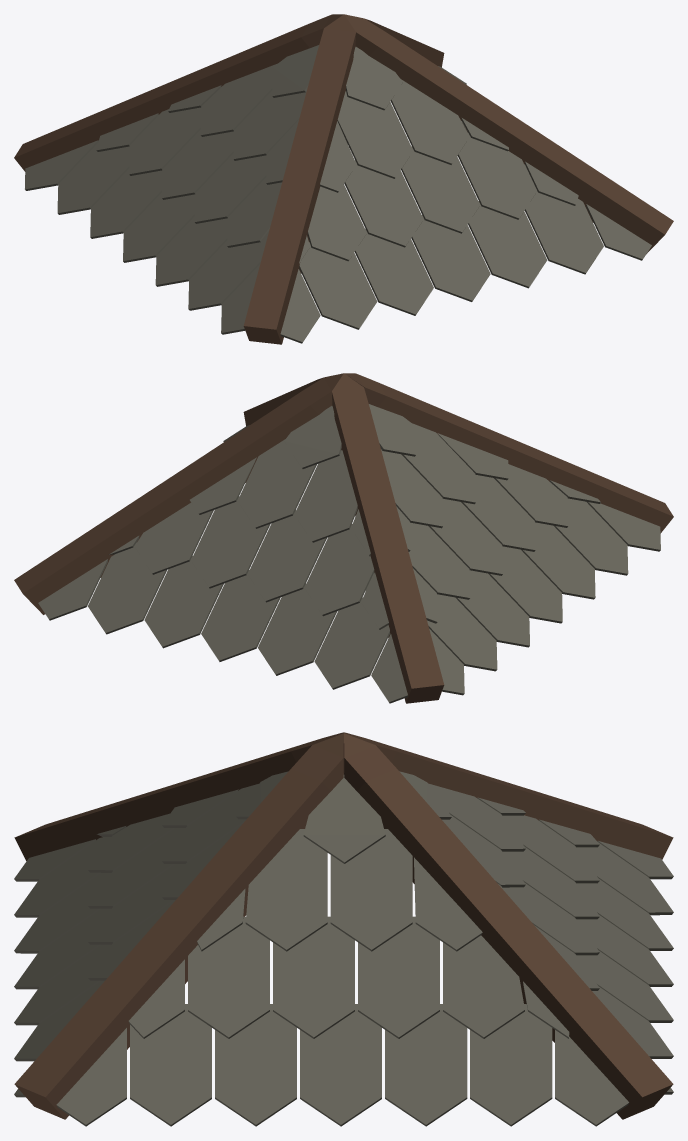
The model's file is Small Roof destruction.fbx.
The picture shows the model from 3 angles, top to bottom: view 1: azimuth 30°, elevation 25°; view 2: azimuth 150°, elevation 25°; view 3: azimuth 270°, elevation 25°; orthographic projection. The views are drawn at different scales.
Parts seen in each view (by area): view 1: Cube.182, Cube.202, Cube.201, Wood Roof Tile.052, Wood Roof Tile.046, Wood Roof Tile.048, Wood Roof Tile.056, Wood Roof Tile.053, Wood Roof Tile.049, Wood Roof Tile.043, Wood Roof Tile.051, Wood Roof Tile.045 (+24 smaller); view 2: Cube.201, Cube.200, Cube.182, Wood Roof Tile.029, Wood Roof Tile.032, Wood Roof Tile.031, Wood Roof Tile.038, Wood Roof Tile.036, Wood Roof Tile.035, Wood Roof Tile.026, Wood Roof Tile.034, Wood Roof Tile.028 (+24 smaller); view 3: Cube.202, Cube.200, Cube.182, Cube.201, Wood Roof Tile.016, Wood Roof Tile.021, Wood Roof Tile.018, Wood Roof Tile.008, Wood Roof Tile.017, Wood Roof Tile.013, Wood Roof Tile.014, Wood Roof Tile.011 (+38 smaller).
Boxes of the visible parts, x1,y1,x2,y2 form: Cube.182: (243, 14, 355, 344); Cube.202: (344, 14, 673, 253); Cube.201: (14, 14, 343, 171); Wood Roof Tile.052: (344, 160, 423, 247); Wood Roof Tile.046: (468, 201, 547, 288); Wood Roof Tile.048: (401, 146, 480, 233); Wood Roof Tile.056: (299, 242, 377, 329); Wood Roof Tile.053: (355, 228, 433, 315); Wood Roof Tile.049: (411, 215, 490, 301); Wood Roof Tile.043: (524, 190, 603, 274); Wood Roof Tile.051: (337, 91, 413, 178); Wood Roof Tile.045: (457, 133, 536, 219); Cube.201: (332, 373, 444, 703); Cube.200: (14, 373, 343, 614); Cube.182: (344, 373, 673, 533); Wood Roof Tile.029: (258, 584, 337, 675); Wood Roof Tile.032: (201, 570, 280, 661); Wood Roof Tile.031: (248, 510, 326, 602); Wood Roof Tile.038: (88, 542, 166, 634); Wood Roof Tile.036: (144, 556, 223, 648); Wood Roof Tile.035: (191, 496, 270, 588); Wood Roof Tile.026: (314, 597, 389, 689); Wood Roof Tile.034: (237, 439, 316, 528); Wood Roof Tile.028: (304, 524, 374, 616); Cube.202: (14, 733, 343, 1119); Cube.200: (344, 733, 673, 1119); Cube.182: (14, 732, 343, 860); Cube.201: (344, 732, 673, 859); Wood Roof Tile.016: (330, 829, 412, 951); Wood Roof Tile.021: (470, 1004, 552, 1126); Wood Roof Tile.018: (385, 1004, 467, 1126); Wood Roof Tile.008: (130, 1004, 211, 1126); Wood Roof Tile.017: (358, 916, 439, 1038); Wood Roof Tile.013: (273, 916, 354, 1038); Wood Roof Tile.014: (300, 1004, 381, 1126); Wood Roof Tile.011: (215, 1004, 296, 1126).
Bounding box in the file's own units: 4.01 × 1.73 × 4.01.
